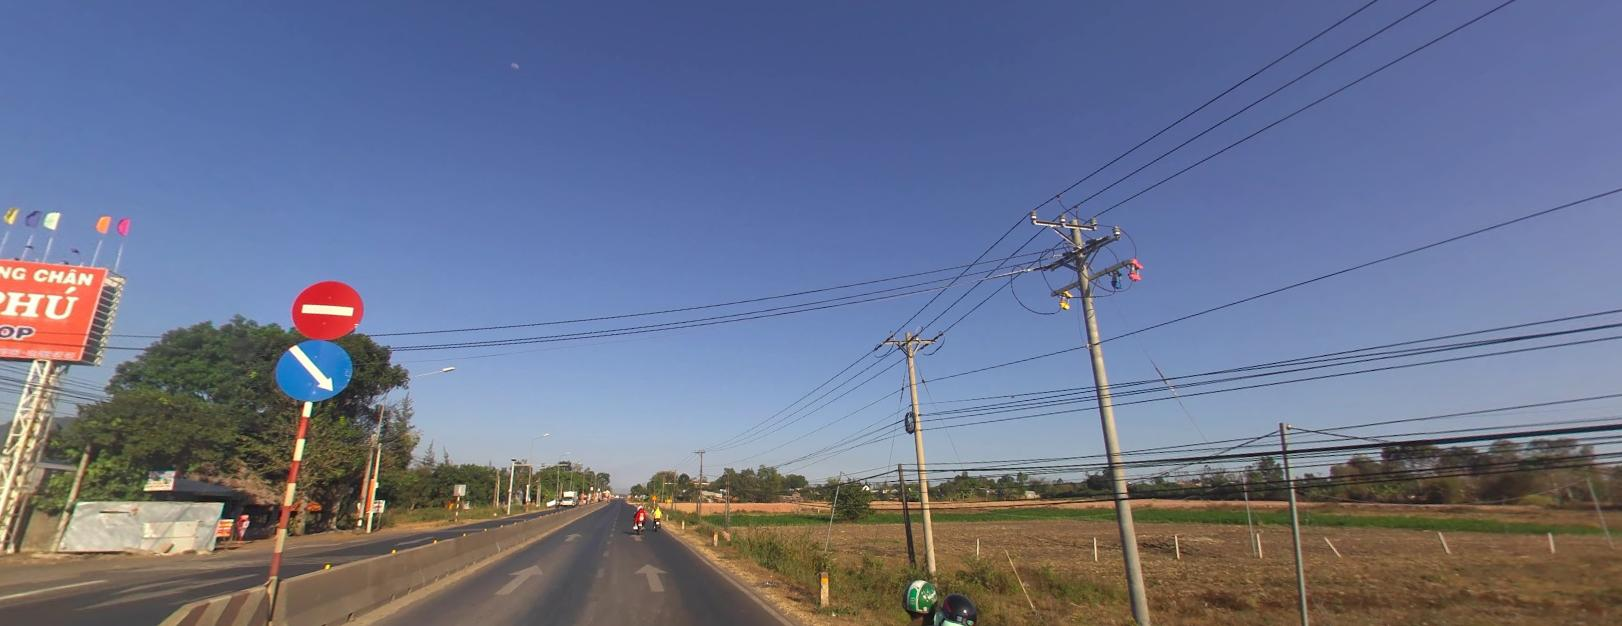Cam nguoc chieu: (289, 276, 365, 336)
Hieu lenh: (273, 337, 353, 401)
Nguy hiem: (650, 493, 658, 499)
